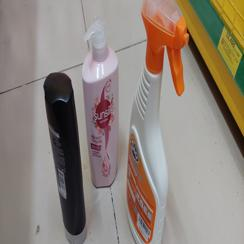sio: (124, 1, 193, 244)
sunsilk black: (41, 71, 96, 243)
sunsilk pink: (79, 18, 124, 187)
